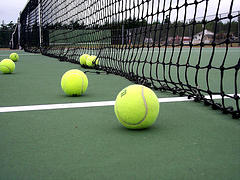tennis ball: (114, 84, 160, 130), (60, 68, 90, 97), (1, 58, 17, 75), (85, 54, 99, 68), (79, 52, 88, 66), (9, 52, 19, 61)
